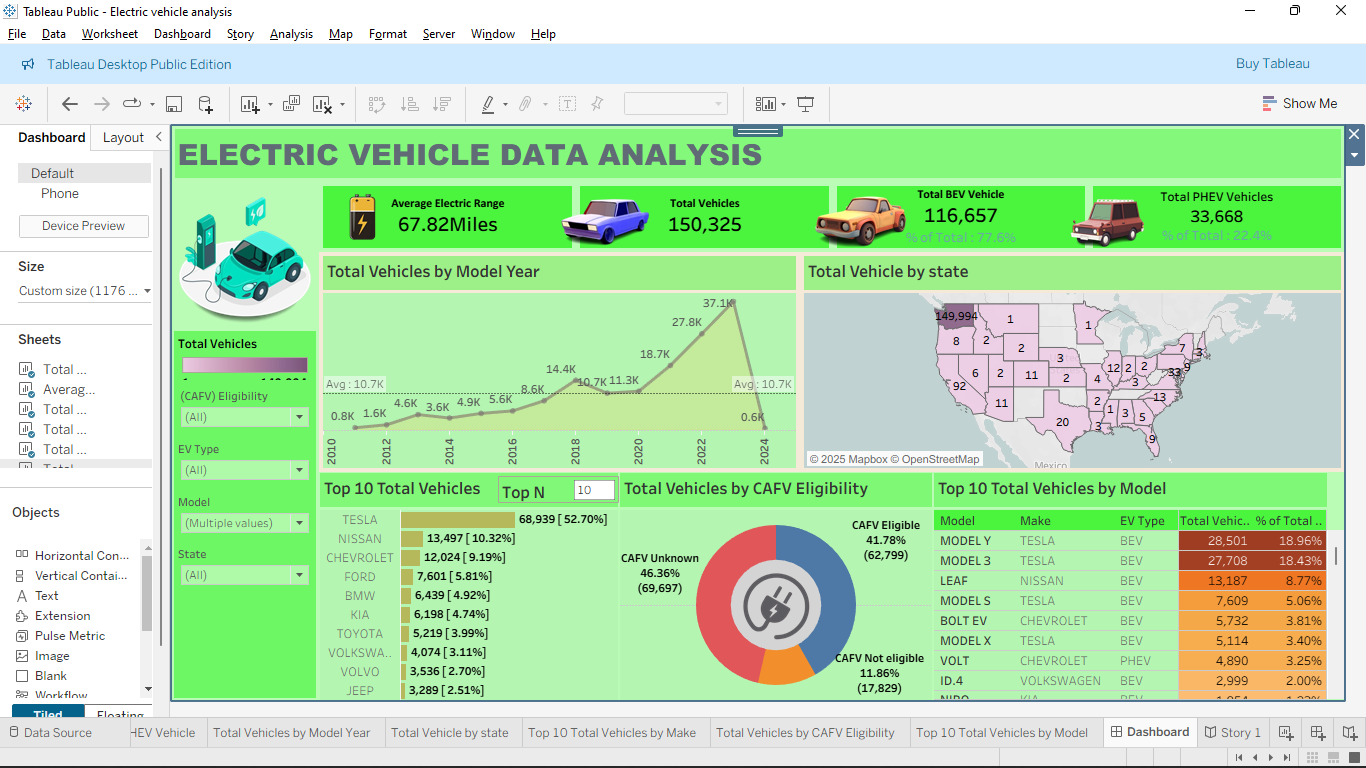

The dashboard page shown, as its layout file describes it:
{"tool":"tableau","page":{"name":"Dashboard","canvas":[1176,578],"ordinal":0},"visuals":[{"type":"title","box":[1,1,1174,57.4]},{"type":"image","param":"D:/POWERBI/icons/Жигули-removebg-preview.png","box":[334,28,206,125]},{"type":"image","param":"D:/POWERBI/icons/미드저니_프롬프트___-removebg-preview.png","box":[605,39,172,111]},{"type":"image","param":"D:/POWERBI/icons/Low_poly_Car_01-removebg-preview.png","box":[844,43,190,114]},{"type":"image","param":"D:/POWERBI/icons/Battery_vector-removebg-preview.png","box":[146,50,92,86]},{"type":"worksheet","title":"Average Electric Range","mark":"Automatic","box":[149,58,257,70]},{"type":"worksheet","title":"Total Vehicles","mark":"Automatic","box":[406,58,257,70]},{"type":"worksheet","title":"Total BEV Vehicle ","mark":"Automatic","box":[663,58,256,70]},{"type":"worksheet","title":"Total PHEV Vehicle","mark":"Automatic","box":[919,58,256,70]},{"type":"image","param":"D:/POWERBI/icons/Free_Vector___Electric_car_concept_illustration-removebg-previe","box":[1,58.4,148,145.6]},{"type":"worksheet","title":"Total Vehicles by Model Year","mark":"Line","rows":["Calculation_1005147195562500096","Calculation_1005147195562500096"],"cols":["Model Year"],"box":[149,128.1,481,219.9]},{"type":"worksheet","title":"Total Vehicle by state","mark":"Multipolygon","box":[630,128.1,545,219.9]},{"type":"legend","title":"Total Vehicle by state","param":"[federated.1dx35o3062qynq1dru3qi1caghq3].[usr:Calculation_1005147195562500096:qk","box":[4,207,142,53]},{"type":"filter","title":"Total Vehicles by Model Year","param":"[federated.1dx35o3062qynq1dru3qi1caghq3].[none:Clean Alternative Fuel Vehicle (C","box":[4,260,142,53]},{"type":"filter","title":"Total Vehicles by Model Year","param":"[federated.1dx35o3062qynq1dru3qi1caghq3].[none:Electric Vehicle Type:nk]","box":[4,313,142,53]},{"type":"worksheet","title":"Top 10 Total Vehicles by Make","mark":"Automatic","rows":["Make"],"cols":["Calculation_1005147195562500096"],"box":[149,348,300,229]},{"type":"worksheet","title":"Total Vehicles by CAFV Eligibility","mark":"Pie","rows":["Calculation_333547901182341121","Calculation_333547901182341121"],"box":[449,348,314,229]},{"type":"worksheet","title":"Top 10 Total Vehicles by Model","mark":"Square","rows":["Model","Make","Electric Vehicle Type"],"box":[763,348,412,229]},{"type":"parameter","param":"[Parameters].[Parameter 2]","box":[328,352,121,27]},{"type":"filter","title":"Total Vehicles by Model Year","param":"[federated.1dx35o3062qynq1dru3qi1caghq3].[none:Model:nk]","box":[4,366,142,52]},{"type":"image","param":"D:/POWERBI/icons/Baixar_projeto_do_vetor_do_símbolo_do_ícone_do_soquete_do_plugu","box":[531,394,150,177]},{"type":"filter","title":"Total Vehicles by Model Year","param":"[federated.1dx35o3062qynq1dru3qi1caghq3].[none:State:nk]","box":[4,418,142,52]},{"type":"blank","box":[4,470,142,52]},{"type":"blank","box":[4,522,142,52]}]}

Visuals, with their boxes on the page's 1176x578 design canvas (x1, y1, x2, y2). These are canvas units, not pixel positions in the 1366x768 screenshot, which may show the page scaled, cropped or inside an application window:
title: 1 1 1175 58
image: 334 28 540 153
image: 605 39 777 150
image: 844 43 1034 157
image: 146 50 238 136
"Average Electric Range" worksheet: 149 58 406 128
"Total Vehicles" worksheet: 406 58 663 128
"Total BEV Vehicle " worksheet: 663 58 919 128
"Total PHEV Vehicle" worksheet: 919 58 1175 128
image: 1 58 149 204
"Total Vehicles by Model Year" worksheet (Line marks): 149 128 630 348
"Total Vehicle by state" worksheet (Multipolygon marks): 630 128 1175 348
"Total Vehicle by state" legend: 4 207 146 260
"Total Vehicles by Model Year" filter: 4 260 146 313
"Total Vehicles by Model Year" filter: 4 313 146 366
"Top 10 Total Vehicles by Make" worksheet: 149 348 449 577
"Total Vehicles by CAFV Eligibility" worksheet (Pie marks): 449 348 763 577
"Top 10 Total Vehicles by Model" worksheet (Square marks): 763 348 1175 577
parameter: 328 352 449 379
"Total Vehicles by Model Year" filter: 4 366 146 418
image: 531 394 681 571
"Total Vehicles by Model Year" filter: 4 418 146 470
blank: 4 470 146 522
blank: 4 522 146 574
